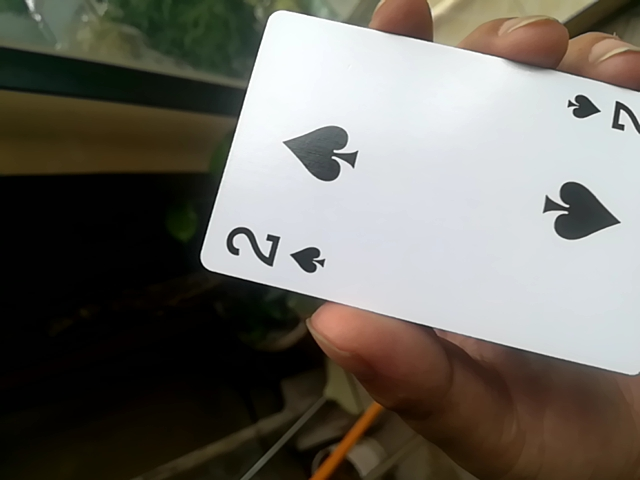ht 2: (190, 7, 639, 392)
